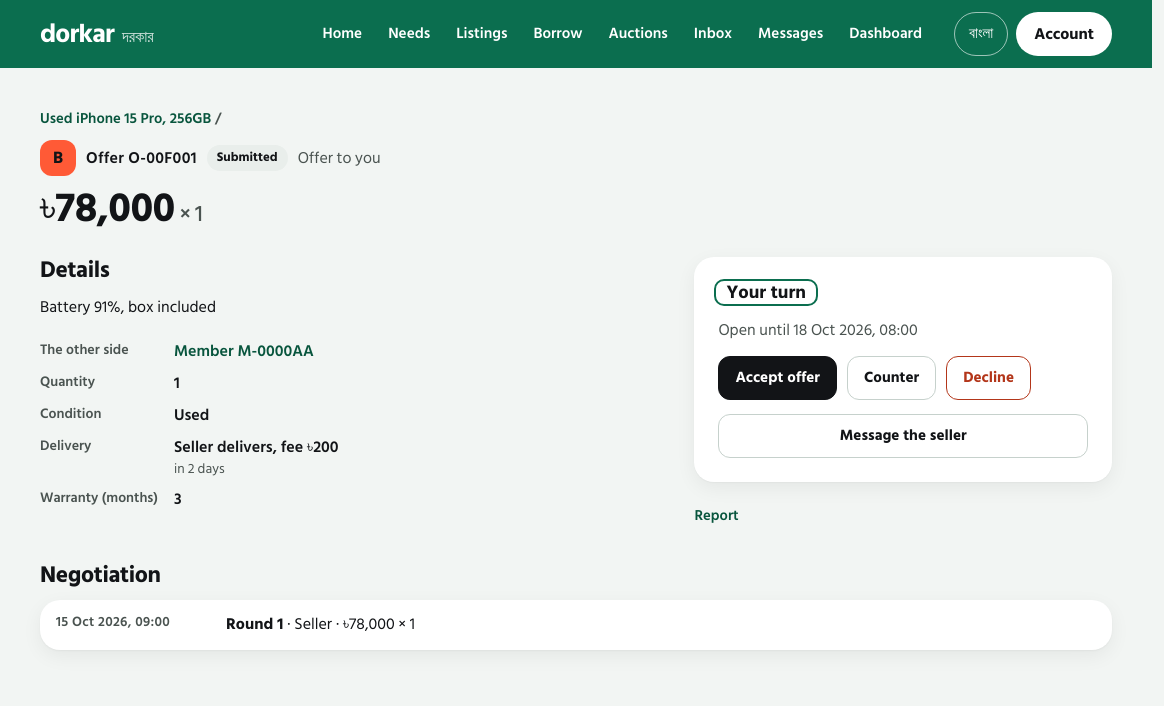
it: negotiating › sends a counter-offer with a new price
This screenshot has width=1164, height=706.
Click the button "Counter".
click(892, 378)  # box [847, 356, 936, 400]
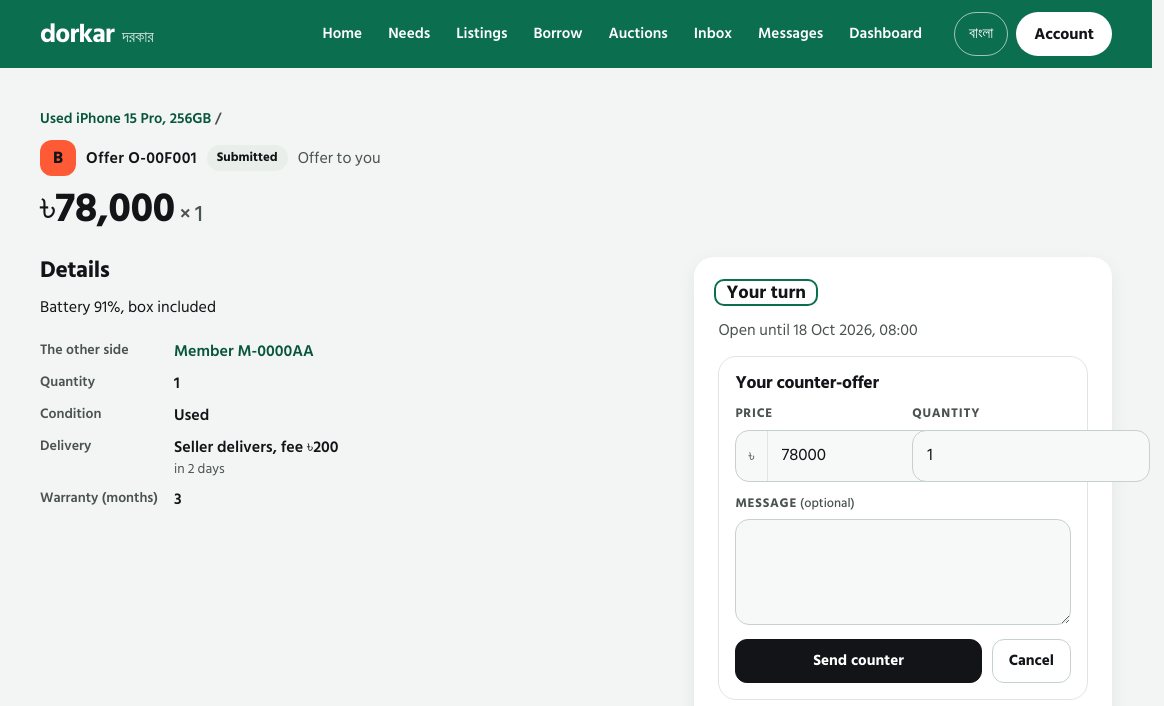
Replace the text in the field labelled "Price" with "72000" at (886, 456), box [768, 431, 1004, 481]
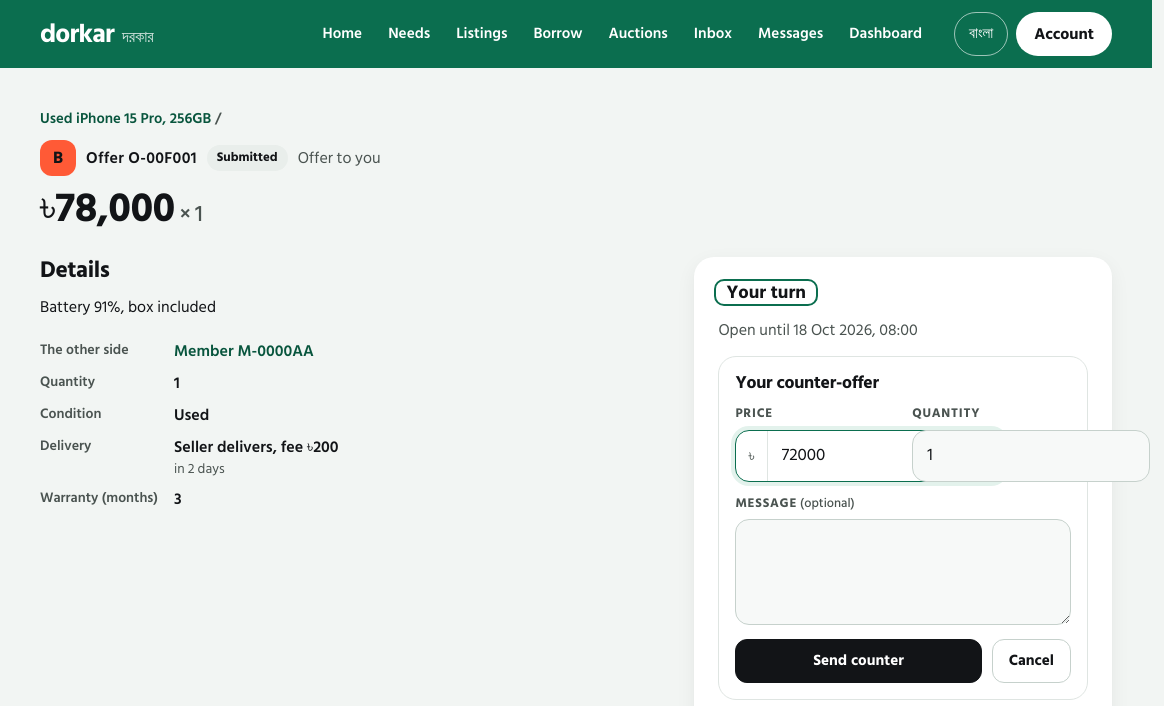
Type "Can you do 72?" into the text box labelled "Message (optional)".
click(903, 572); type("Can you do 72?")  # box [736, 520, 1070, 624]
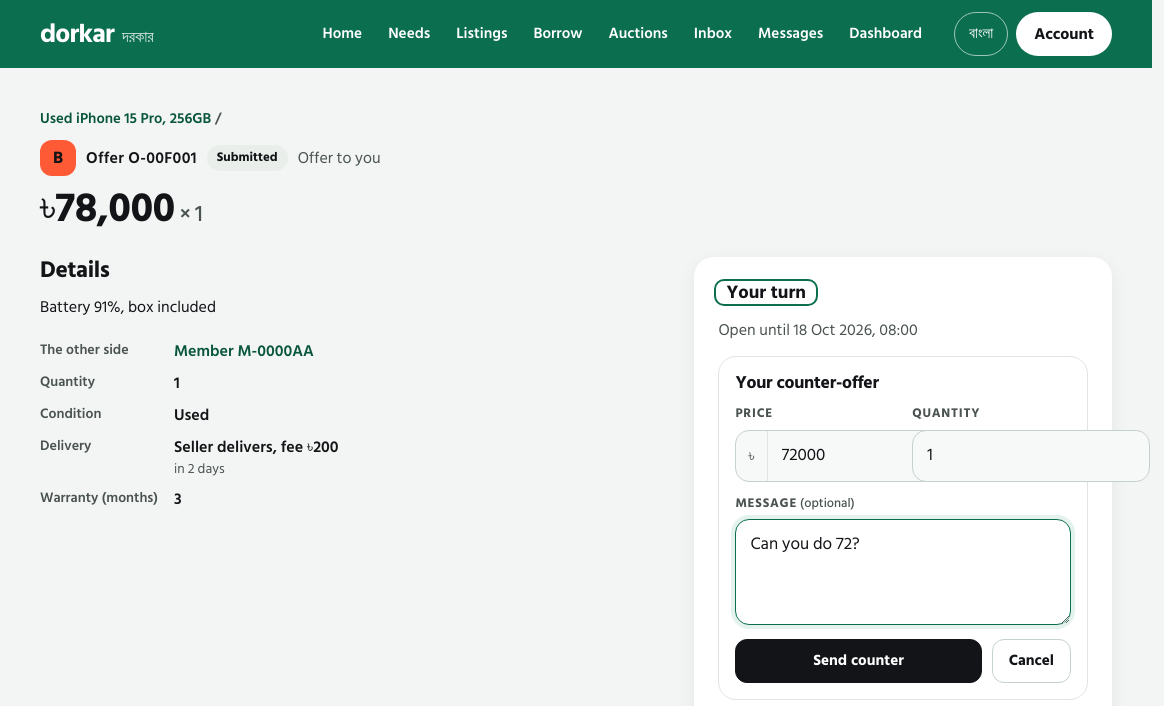
Click the button "Send counter".
click(858, 661)  # box [735, 639, 982, 683]
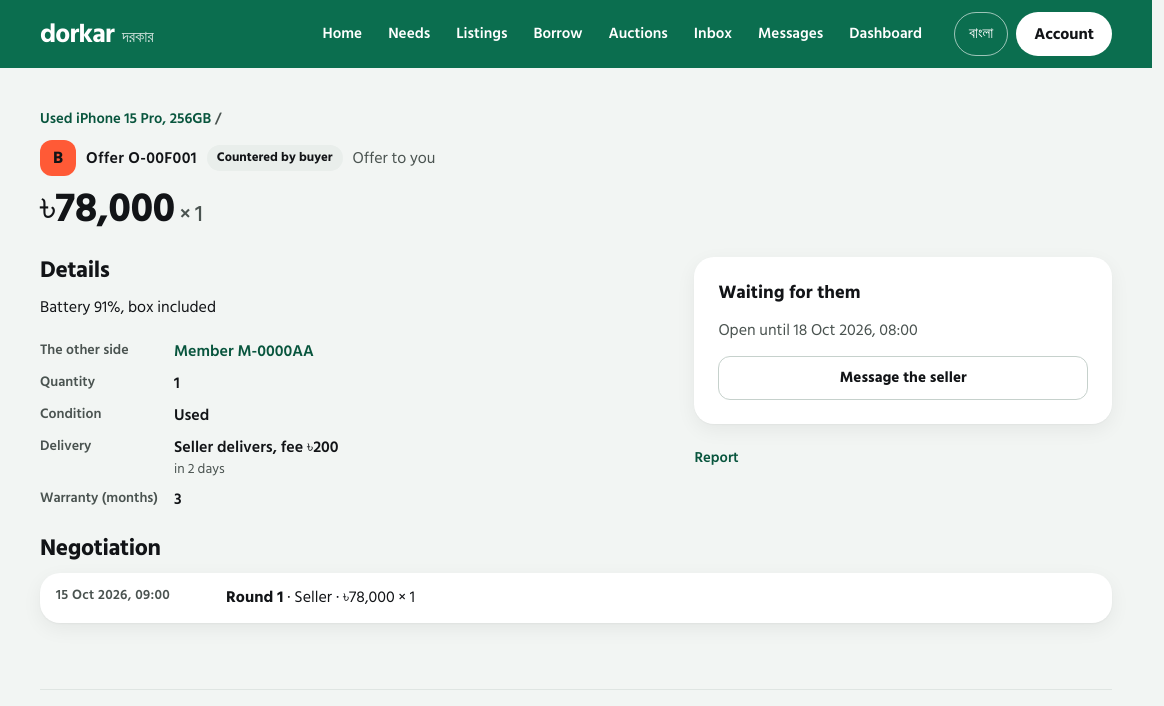
Now the text "Waiting for them" is shown, box [718, 277, 861, 307]
